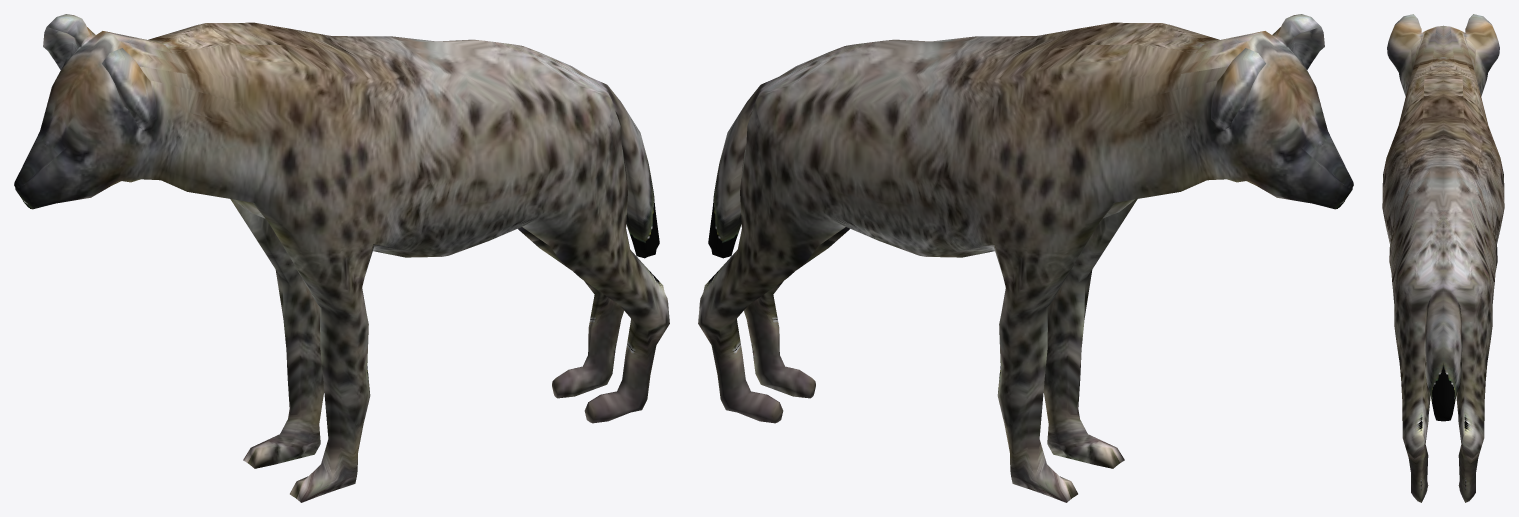
File: hiena.gltf
3 renders of one model, left to right at view 1: azimuth 30°, elevation 25°; view 2: azimuth 150°, elevation 25°; view 3: azimuth 270°, elevation 25°, orthographic. The views are drawn at different scales.
Visible parts, largest first — view 1: Plane; view 2: Plane; view 3: Plane.
Part boxes in pixels (x1,y1,x2,y2): Plane: (14,14,669,502); Plane: (698,14,1353,502); Plane: (1382,14,1504,502).
Bounding box in the file's own units: 2.96 × 2.17 × 0.7502.
1 material, 1 textured.
